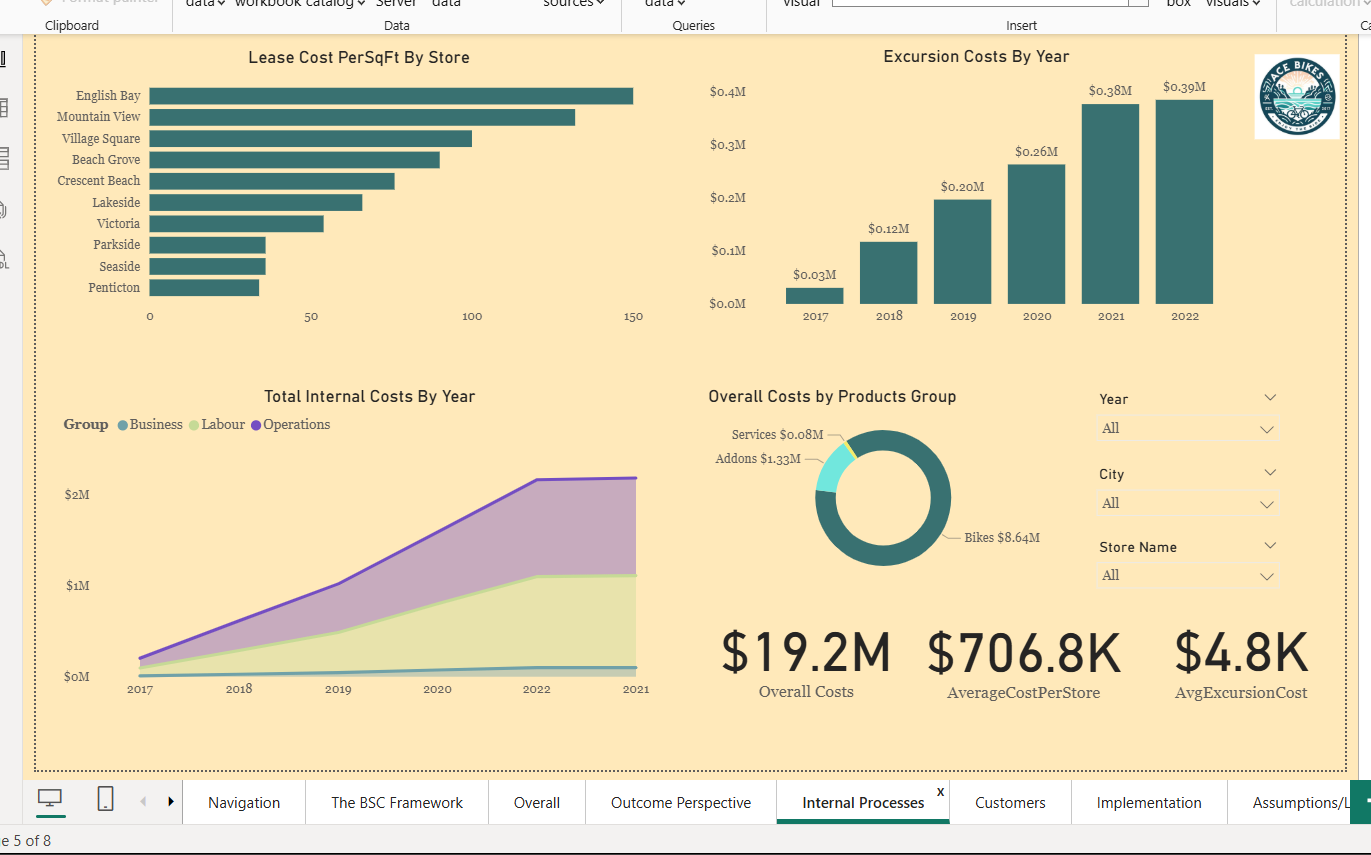

This screenshot's page, from the dashboard's own definition file:
{"tool":"powerbi","page":{"name":"Internal Processes","canvas":[1280,720],"ordinal":4},"visuals":[{"type":"barChart","title":"Lease Cost PerSqFt By Store","fields":{"Category":["Locations.Store Name"],"Y":["TotalCostsbyLocationbyMonth.LeaseCostPerSqFt"]},"box":[1.2,12.2,629.8,280],"z":0},{"type":"columnChart","title":"Excursion Costs By Year","fields":{"Category":["Filter Control.Year"],"Y":["Sum(ExcursionCostsbyLocationbyMonthbyCategory.TotalCost)"]},"box":[653,11,534.4,281.3],"z":1000},{"type":"donutChart","title":"Overall Costs by Products Group","fields":{"Category":["Categories.Group"],"Y":["TotalCostsbyLocationbyMonth.Overall Costs"]},"box":[653,343.6,352.2,201.8],"z":2000},{"type":"stackedAreaChart","title":"Total Internal Costs By Year","fields":{"Category":["Filter Control.Year"],"Y":["TotalCostsbyLocationbyMonth.Overall Costs"],"Series":["Categories.Group"]},"box":[22,343.6,609,313],"z":3000},{"type":"card","fields":{"Values":["ExcursionCostsbyLocationbyMonthbyCategory.AvgExcursionCost"]},"box":[1078.5,555.2,201.8,102.7],"z":4000},{"type":"card","fields":{"Values":["TotalCostsbyLocationbyMonth.Overall Costs"]},"box":[653,555.2,201.8,101.5],"z":5000},{"type":"card","fields":{"Values":["TotalCostsbyLocationbyMonth.AverageCostPerStore"]},"box":[863.3,556.4,206.7,101.5],"z":6000},{"type":"slicer","fields":{"Values":["Filter Control.Year"]},"box":[1027.2,343.6,199.3,57.5],"z":7000},{"type":"slicer","fields":{"Values":["Locations.City"]},"box":[1027.2,417,199.3,57.5],"z":8000},{"type":"slicer","fields":{"Values":["Locations.Store Name"]},"box":[1027.2,487.9,199.3,57.5],"z":9000},{"type":"image","box":[1187.4,11,92.9,101.5],"z":10000}]}

Visuals, with their boxes on the page's 1280x720 design canvas (x1, y1, x2, y2). These are canvas units, not pixel positions in the 1371x855 screenshot, which may show the page scaled, cropped or inside an application window:
"Lease Cost PerSqFt By Store" barChart: bbox(1, 12, 631, 292)
"Excursion Costs By Year" columnChart: bbox(653, 11, 1187, 292)
"Overall Costs by Products Group" donutChart: bbox(653, 344, 1005, 545)
"Total Internal Costs By Year" stackedAreaChart: bbox(22, 344, 631, 657)
card - ExcursionCostsbyLocationbyMonthbyCategory.AvgExcursionCost: bbox(1078, 555, 1280, 658)
card - TotalCostsbyLocationbyMonth.Overall Costs: bbox(653, 555, 855, 657)
card - TotalCostsbyLocationbyMonth.AverageCostPerStore: bbox(863, 556, 1070, 658)
slicer - Filter Control.Year: bbox(1027, 344, 1226, 401)
slicer - Locations.City: bbox(1027, 417, 1226, 474)
slicer - Locations.Store Name: bbox(1027, 488, 1226, 545)
image: bbox(1187, 11, 1280, 112)
